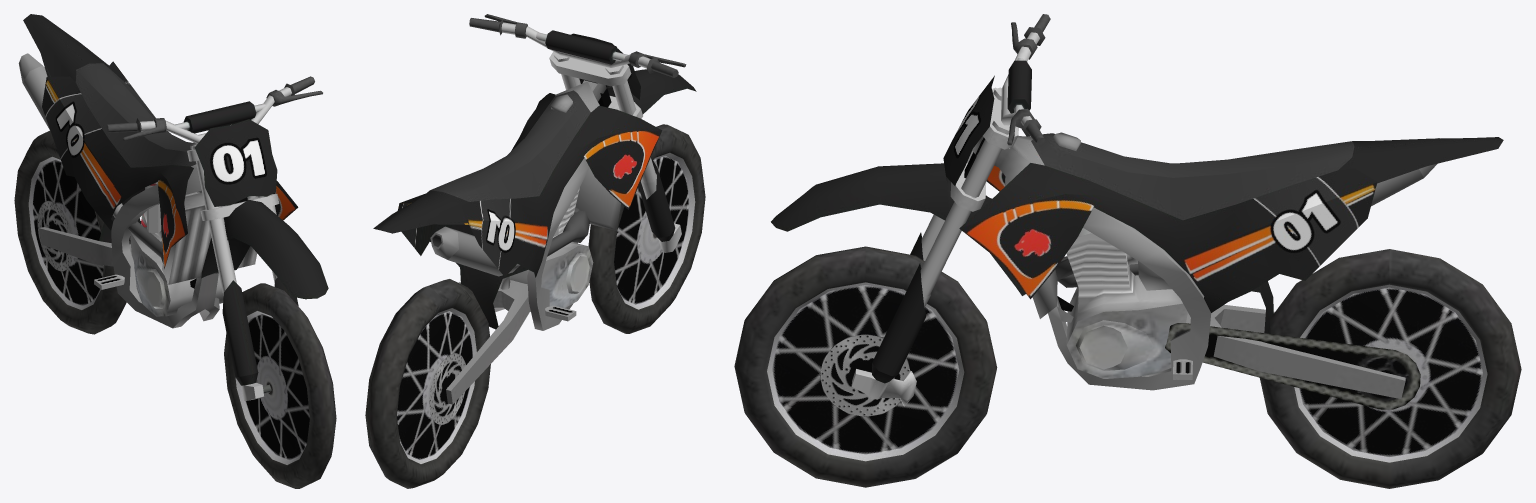
The model's file is dirtbike_black.glb.
The picture shows the model from 3 angles, left to right: view 1: azimuth 30°, elevation 25°; view 2: azimuth 150°, elevation 25°; view 3: azimuth 270°, elevation 25°; orthographic projection. The views are drawn at different scales.
Parts seen in each view (by area): view 1: body, wheel_f, wheel_r; view 2: body, wheel_r, wheel_f; view 3: body, wheel_f, wheel_r.
Boxes of the visible parts, <box> form: body: <box>18,14,328,400</box>; wheel_f: <box>224,283,336,488</box>; wheel_r: <box>14,130,130,334</box>; body: <box>373,14,696,404</box>; wheel_r: <box>365,279,490,488</box>; wheel_f: <box>588,124,705,333</box>; body: <box>771,14,1503,409</box>; wheel_f: <box>734,246,997,487</box>; wheel_r: <box>1260,249,1521,488</box>.
Bounding box in the file's own units: 0.7842 × 1.21 × 2.09.
Materials: 1 (1 with a texture image).
